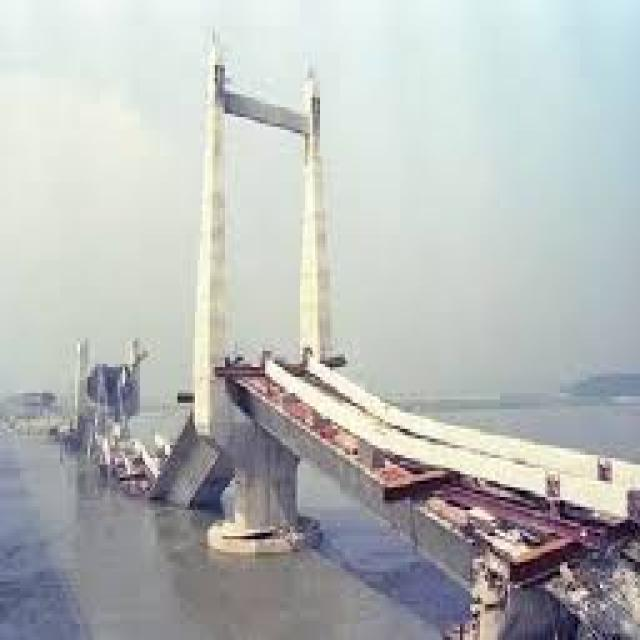bridge collapse: (2, 288, 432, 592)
